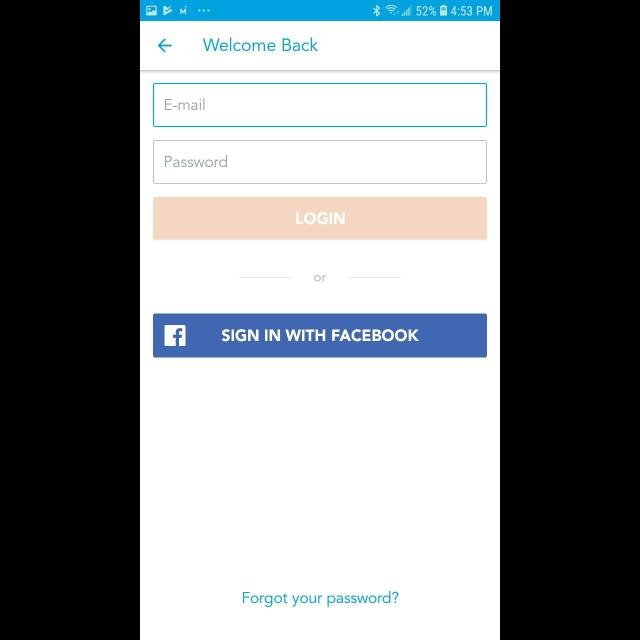icon: (158, 39, 172, 53)
input: (153, 140, 487, 184), (154, 83, 486, 127)
text: (243, 590, 399, 608), (204, 38, 318, 52), (165, 155, 227, 167), (165, 98, 205, 110), (314, 274, 326, 282)
textbutton: (154, 314, 486, 358), (153, 197, 487, 240)
uppertaskbar: (140, 1, 500, 22)
